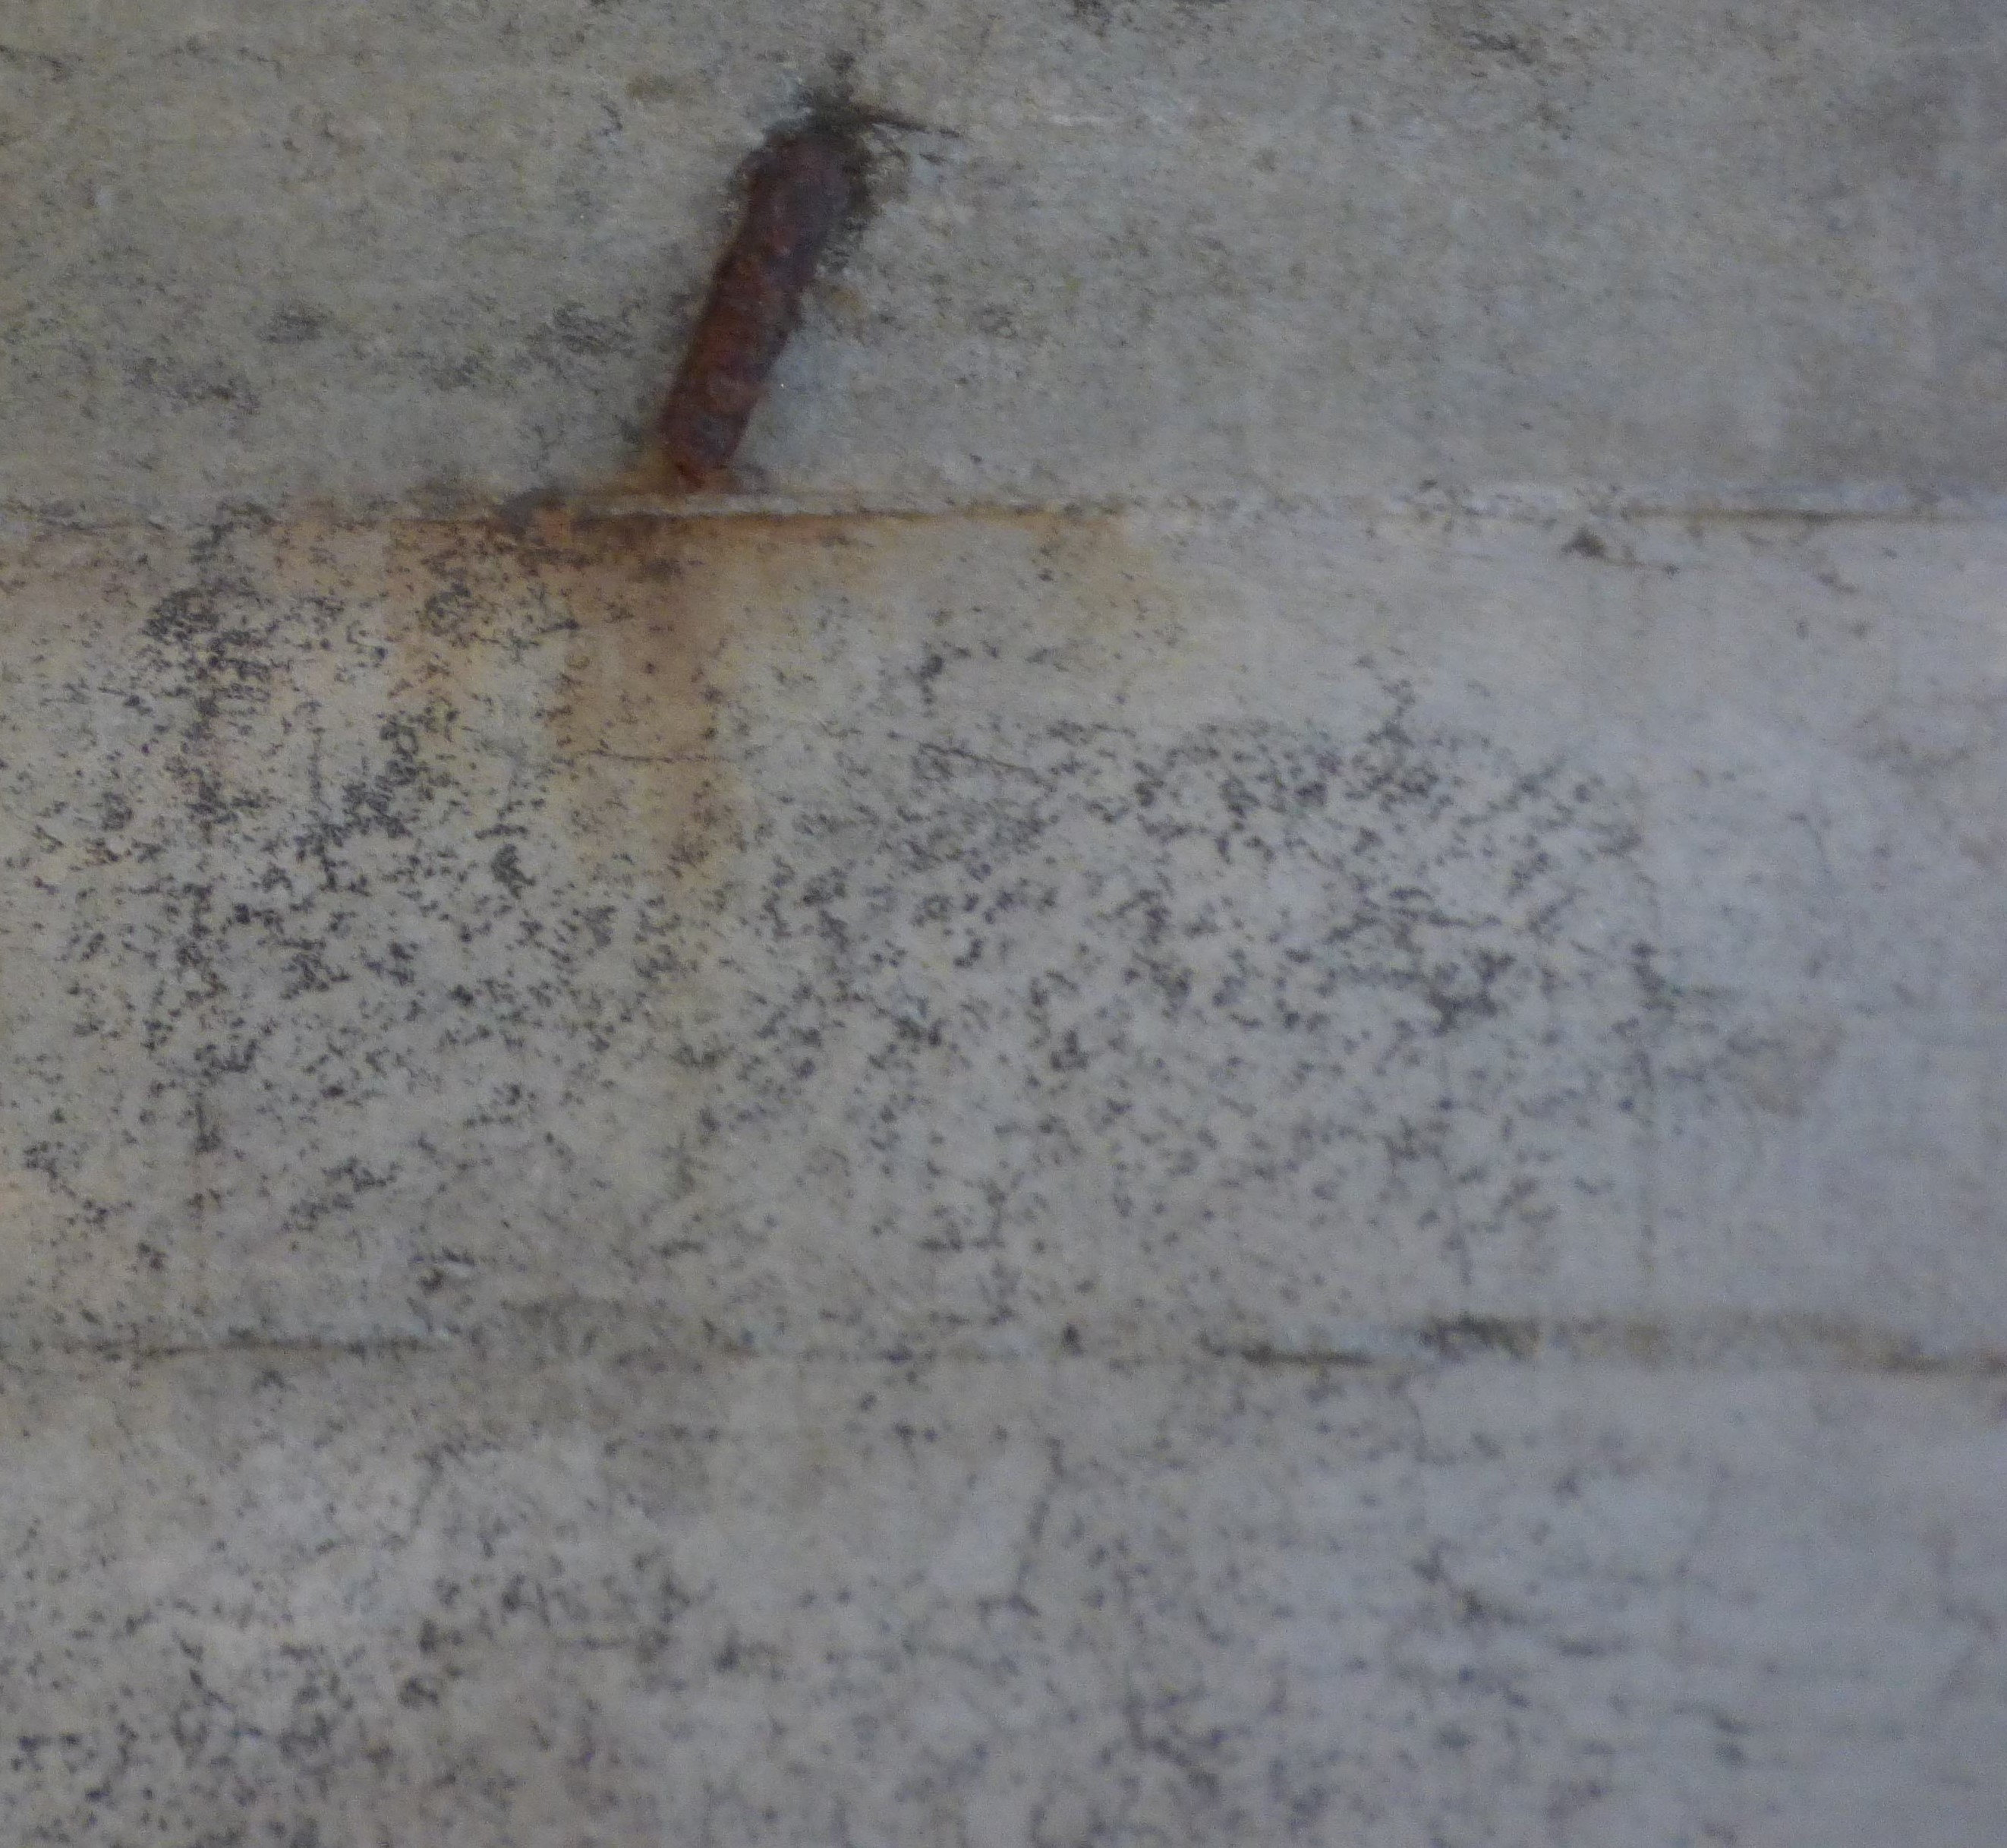Exposed reinforcement: (657, 135, 851, 490)
